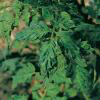Tomato leaf mosaic virus: (38, 41, 60, 87), (55, 30, 82, 65), (66, 61, 91, 93), (16, 22, 49, 43), (54, 20, 77, 30), (42, 8, 56, 22)
